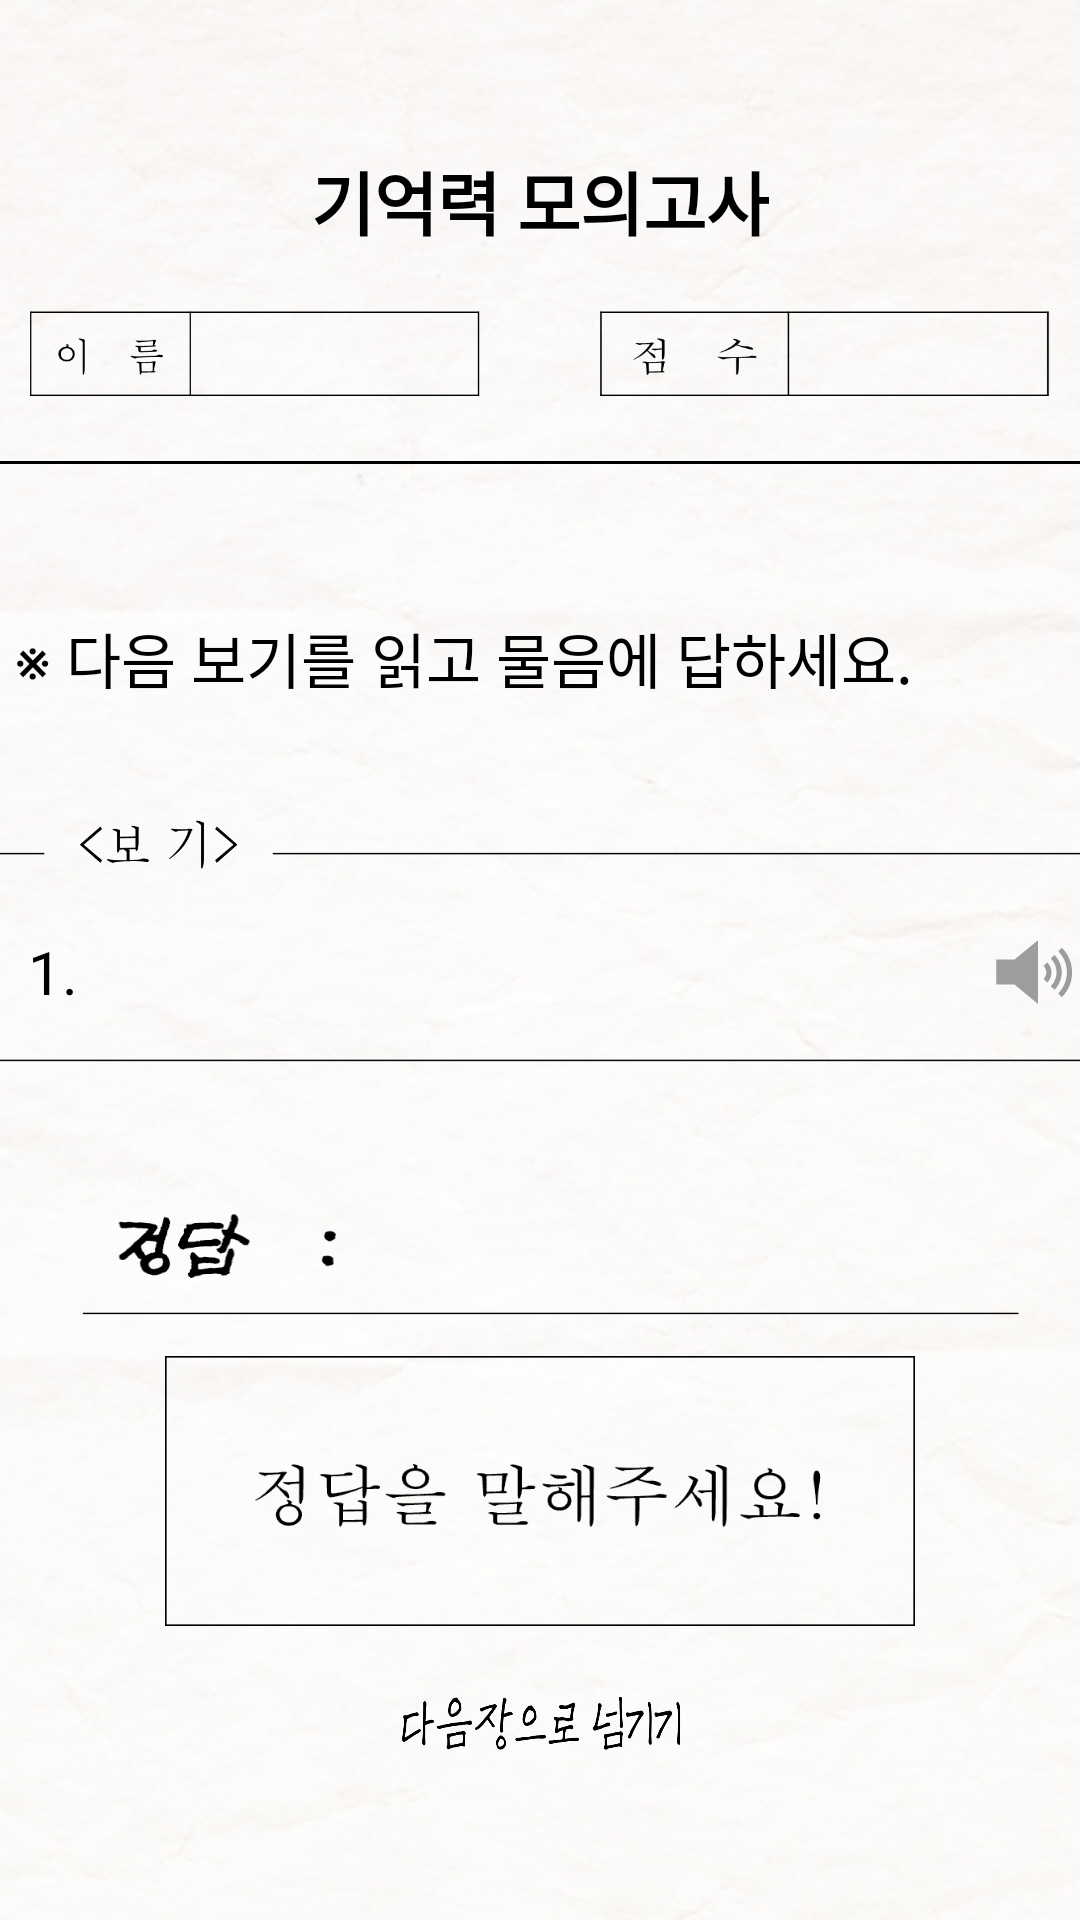

Icon bounding boxes for this 1080 × 1920 phone screenshot, format (x1, y1, x2, y2):
speaker: (996, 940, 1072, 1004)
